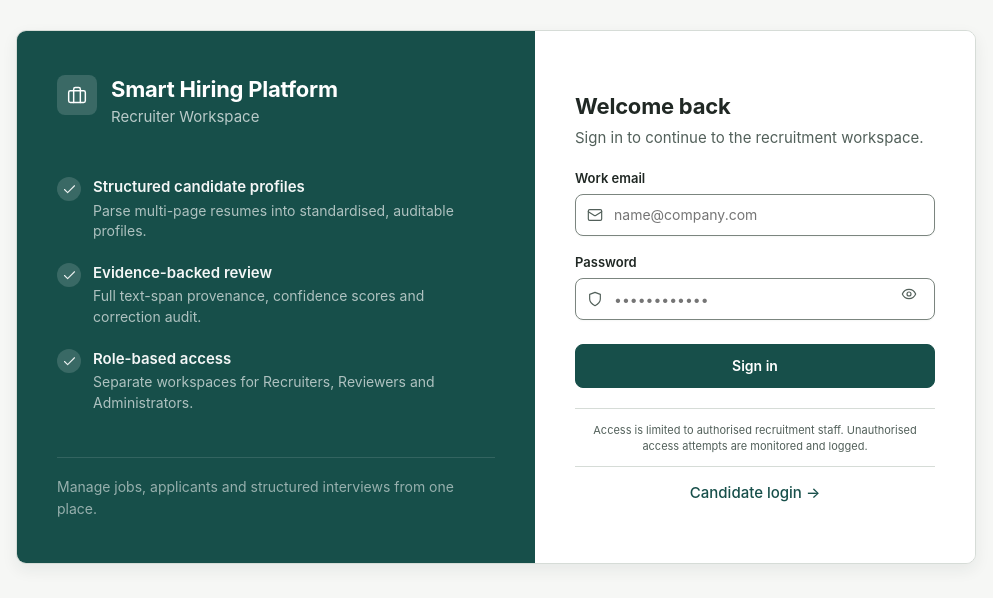
Scenario: Phase 2A.4: Authentication & Role-Aware Shell Workflow › 3. validates required fields and displays generic login error on invalid credentials
The image size is (993, 598).
Check: the field labelled "Work email" is shown, box [575,194,935,236]
Note: Submit empty
Click the button "Sign in". click: (755, 366)
box: [575,344,935,388]
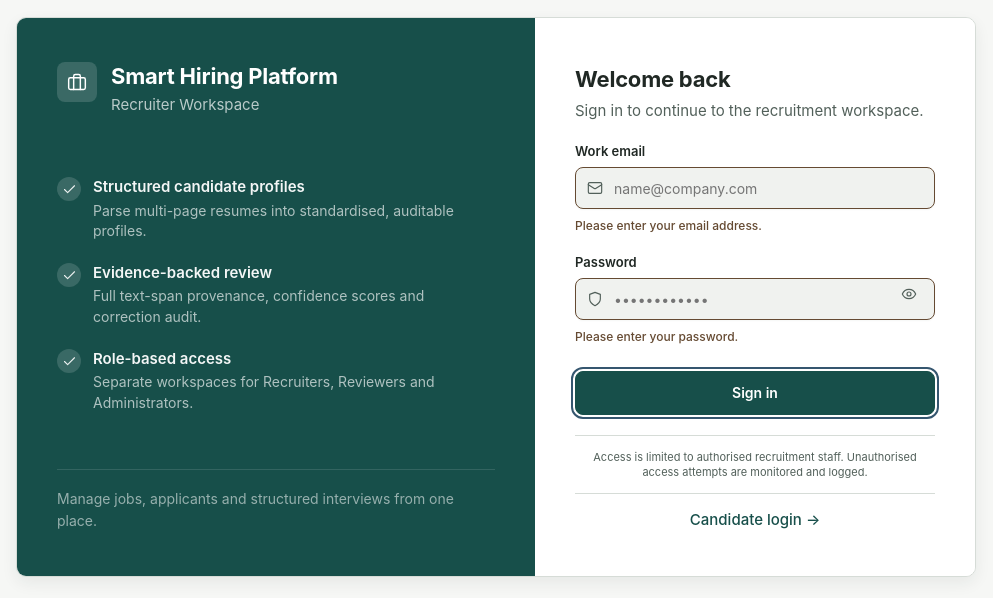
Check: the text "Please enter your email address." is shown, box [575,218,762,233]
Note: Fill email only
Type "user@company.com" into the field labelled "Work email". click: (755, 188)
box: [575,167,935,209]
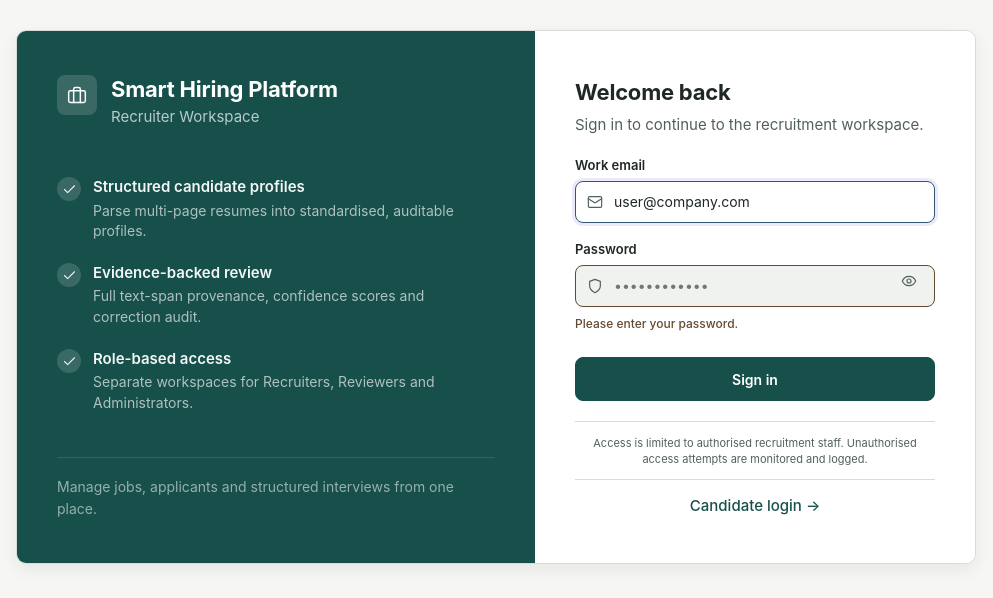
Click the button "Sign in". click: (755, 379)
box: [575,357,935,401]
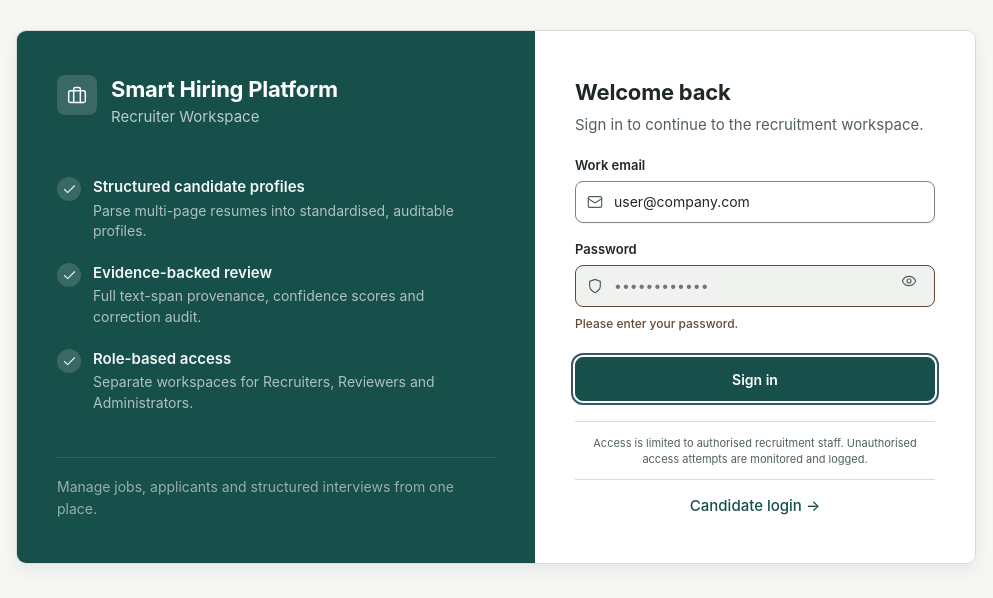
Check: the text "Please enter your password." is shown, box [575,316,738,331]
Note: Fill password and submit
Type "WrongPassword123!" into the password field labelled "Password". click: (755, 286)
box: [575,265,935,307]
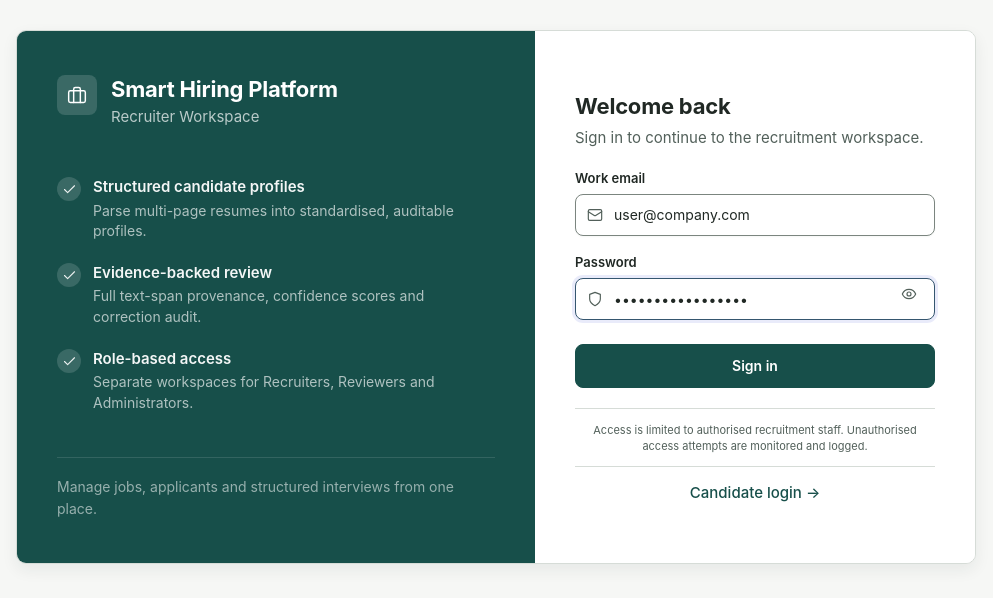
Click the button "Sign in". click: (755, 366)
box: [575,344,935,388]
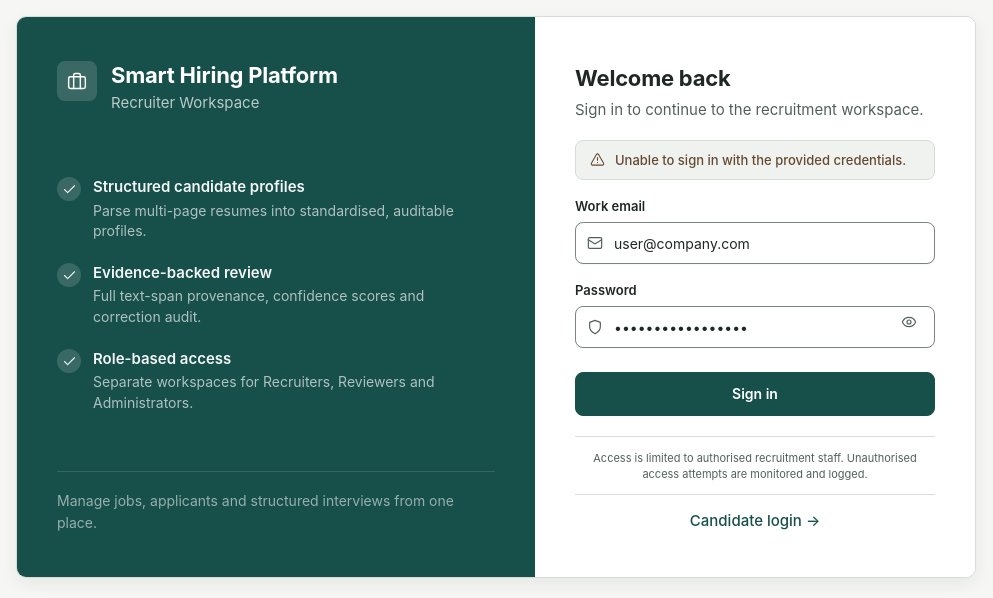
Check: the text "Unable to sign in with the provided credentials." is shown, box [615,151,906,169]
